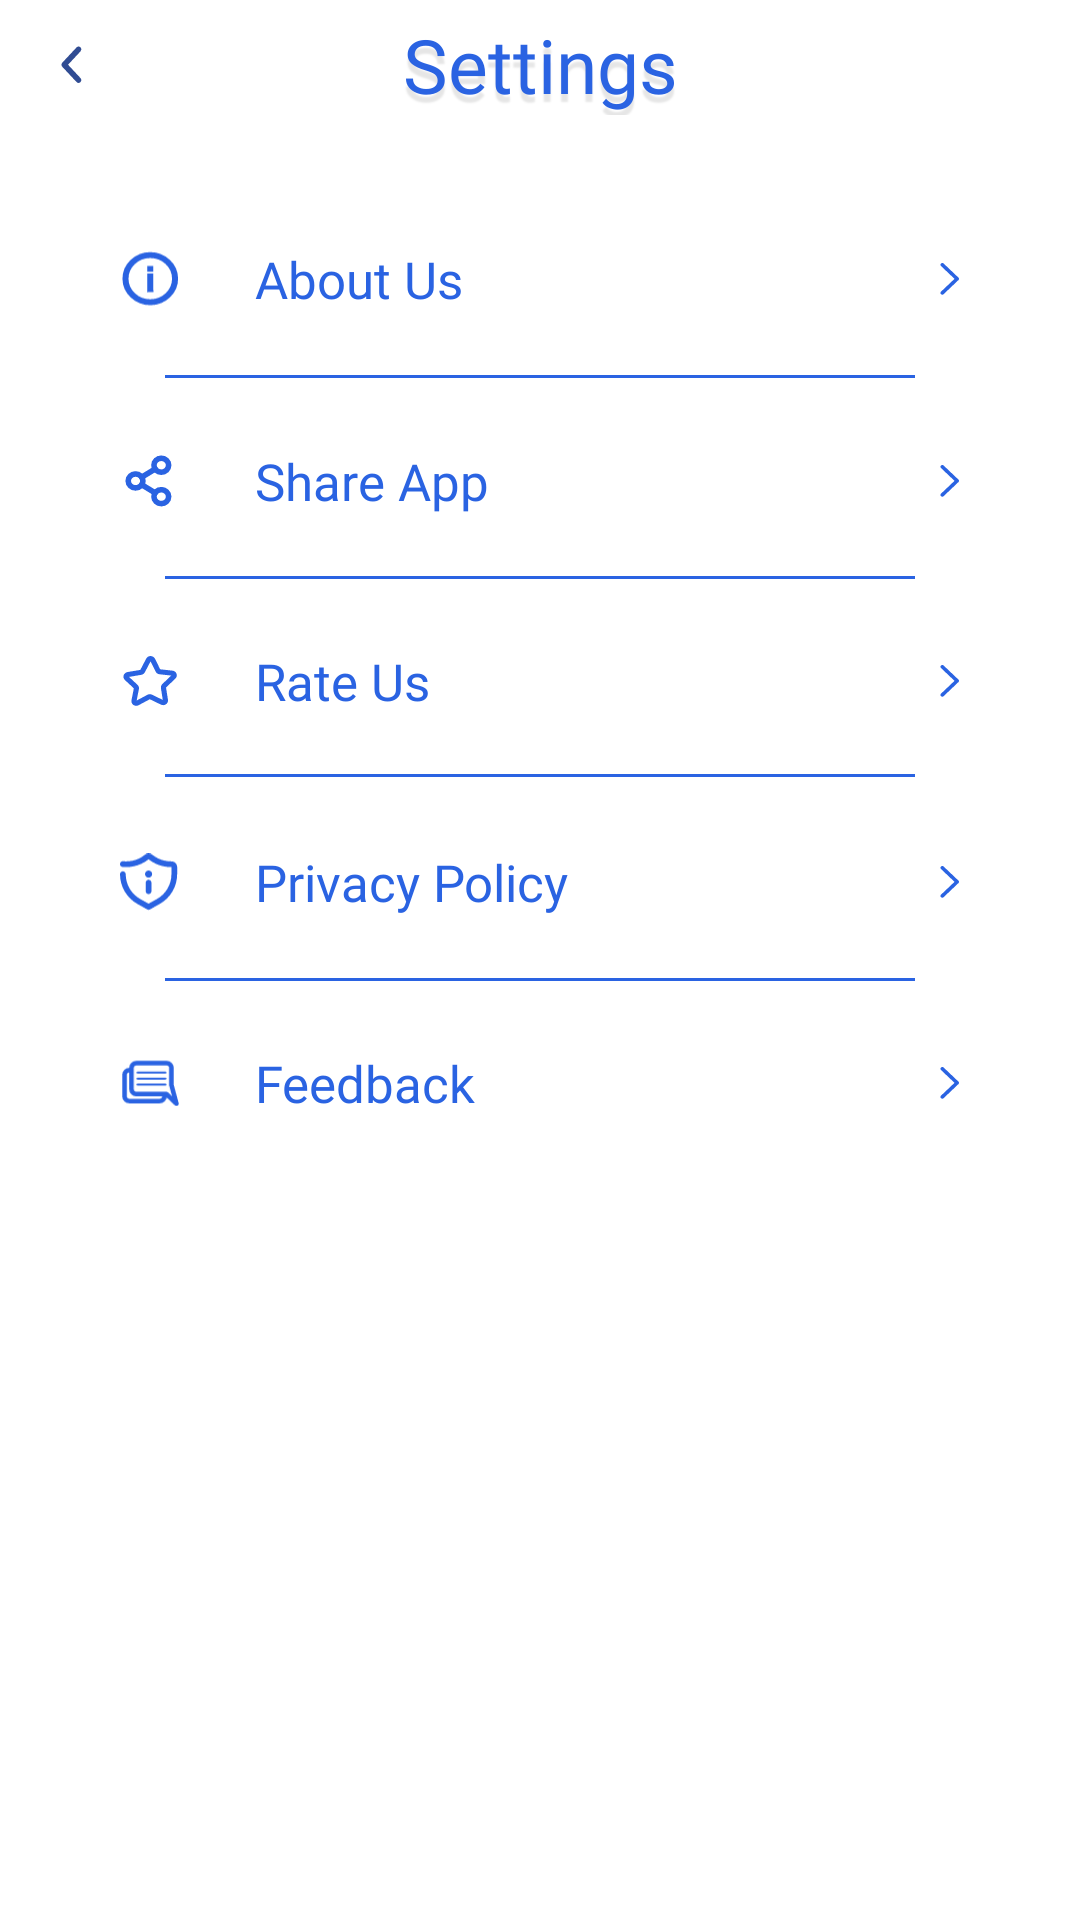

Where to tap for icons on this 1080 x 1920 app screen, as (x,y):
back: (71,64)
next: (949,279), (949,481), (949,681), (949,882), (949,1083)
